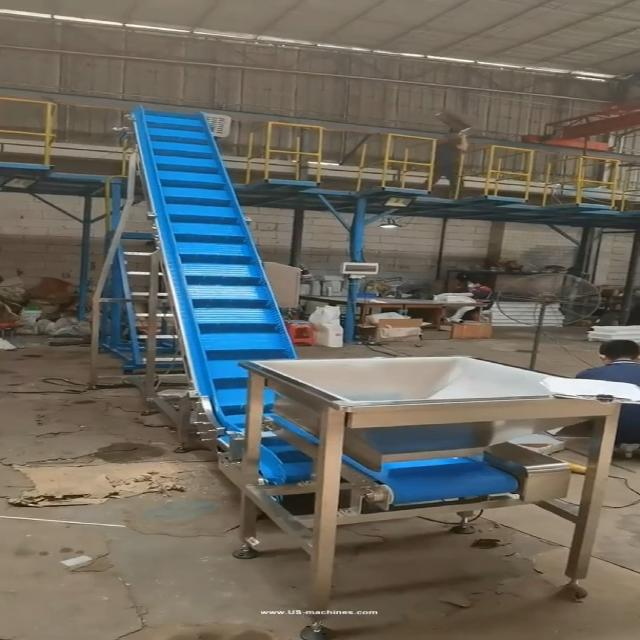Convoyeur: (130, 106, 572, 525)
